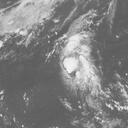cyclone: (59, 42, 103, 93)
